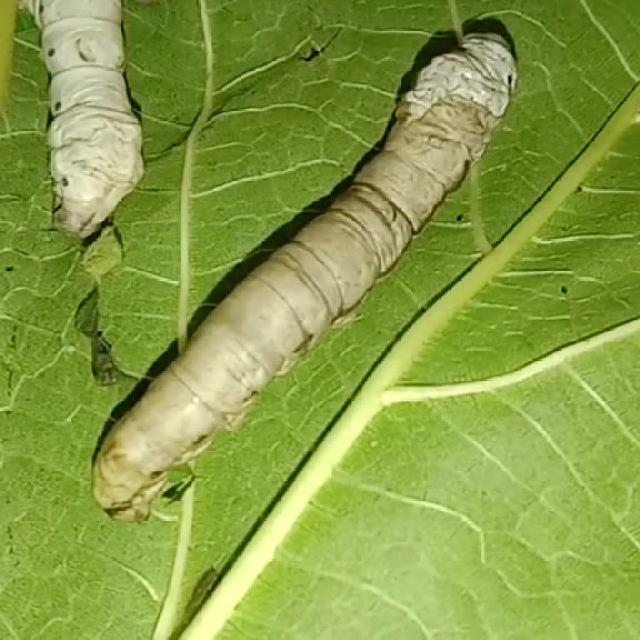Grasserie: (101, 36, 562, 552)
